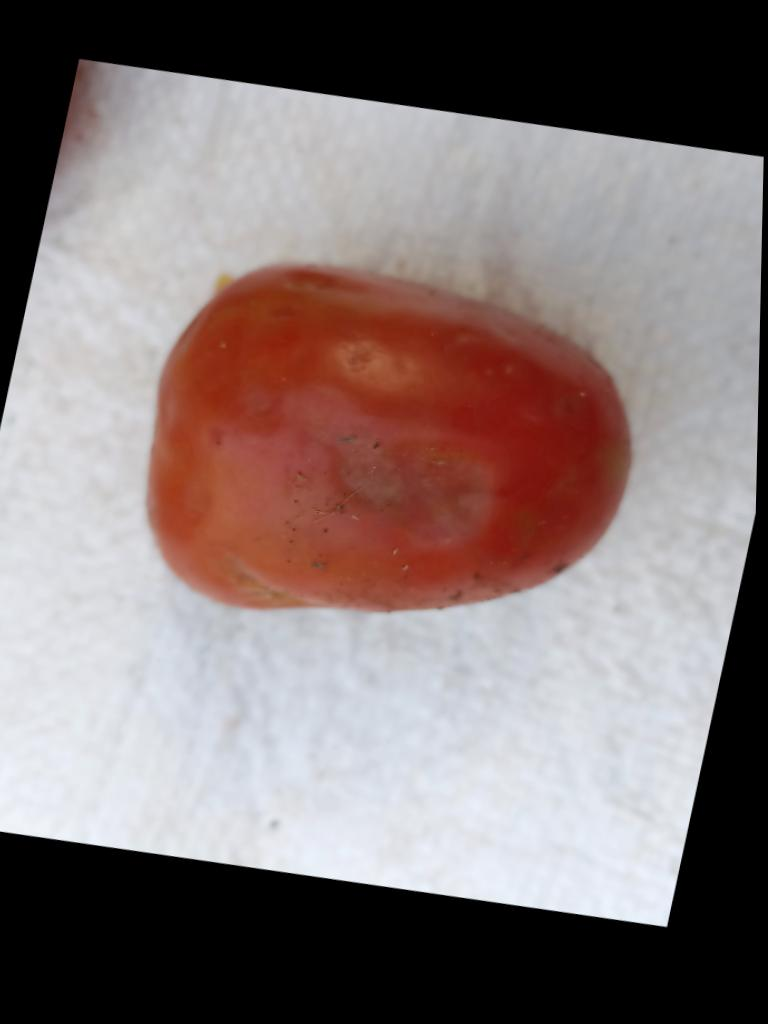bruise_discoloration: (289, 392, 489, 550), (336, 340, 412, 390), (234, 563, 315, 606)
tomato: (148, 264, 630, 610)
